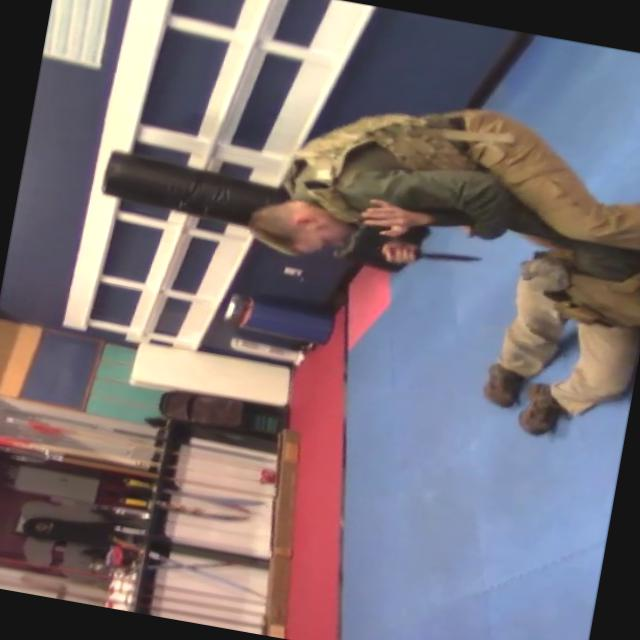knife: (374, 232, 478, 278)
